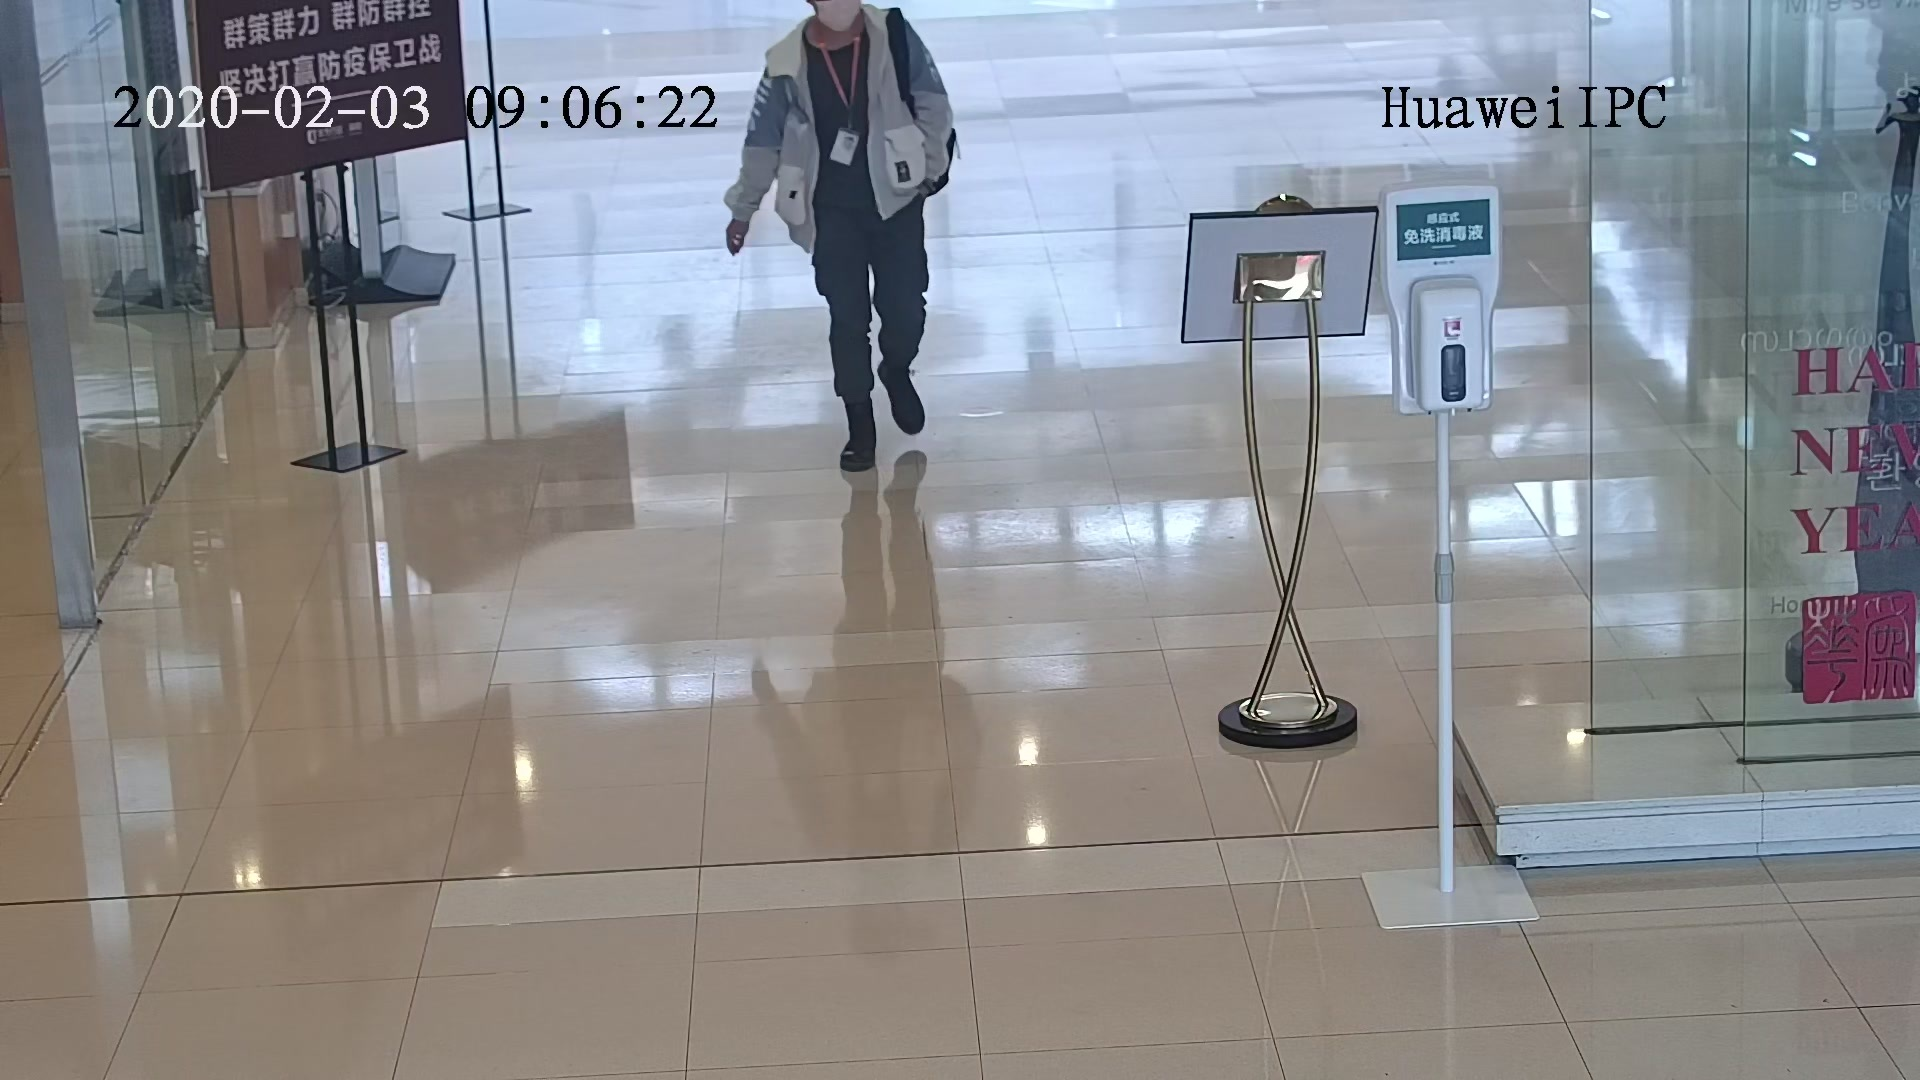mask: (815, 5, 866, 37)
person: (757, 4, 929, 92)
